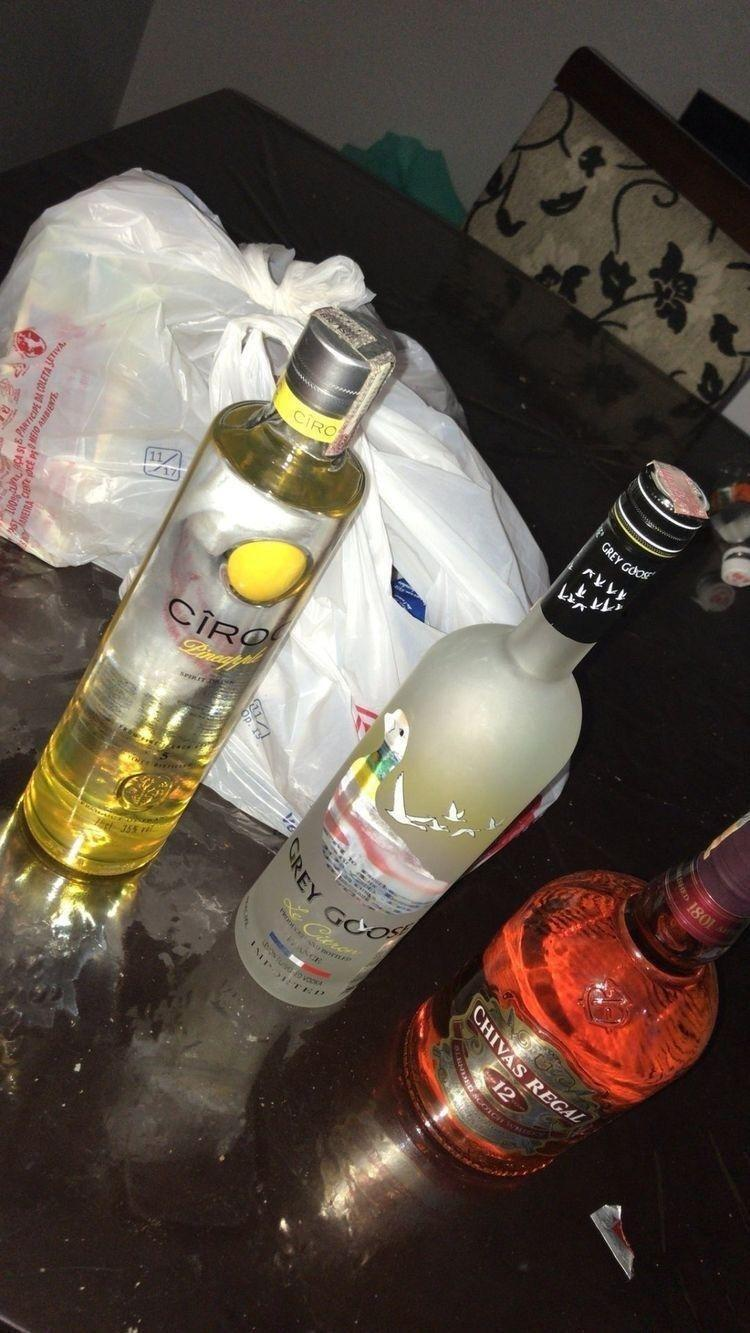bottle-glass: (230, 457, 714, 1011), (22, 302, 400, 885), (394, 815, 749, 1178)
